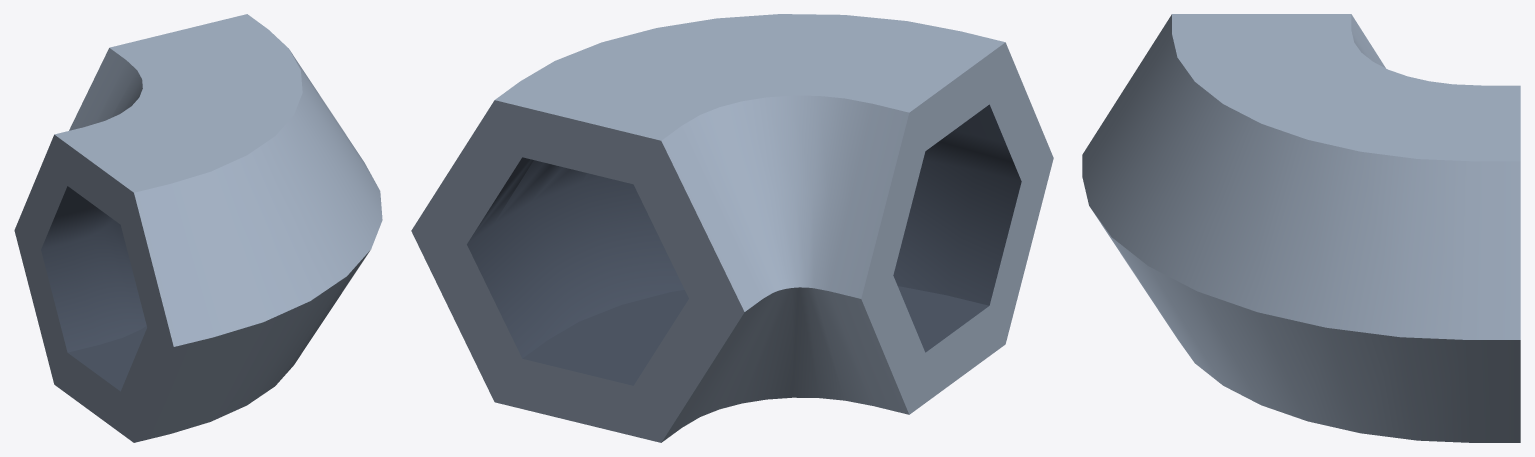
File: pipe_cornerRound.glb
3 renders of one model, left to right at view 1: azimuth 30°, elevation 25°; view 2: azimuth 150°, elevation 25°; view 3: azimuth 270°, elevation 25°, orthographic. The views are drawn at different scales.
Parts seen in each view (by area): view 1: pipe_cornerRound; view 2: pipe_cornerRound; view 3: pipe_cornerRound.
Boxes of the visible parts, left/top/right/bottom form: pipe_cornerRound: left=14, top=14, right=382, bottom=442; pipe_cornerRound: left=411, top=14, right=1053, bottom=442; pipe_cornerRound: left=1082, top=14, right=1520, bottom=442.
Size of the model in its own units: 0.8464 by 0.6 by 0.8464.
